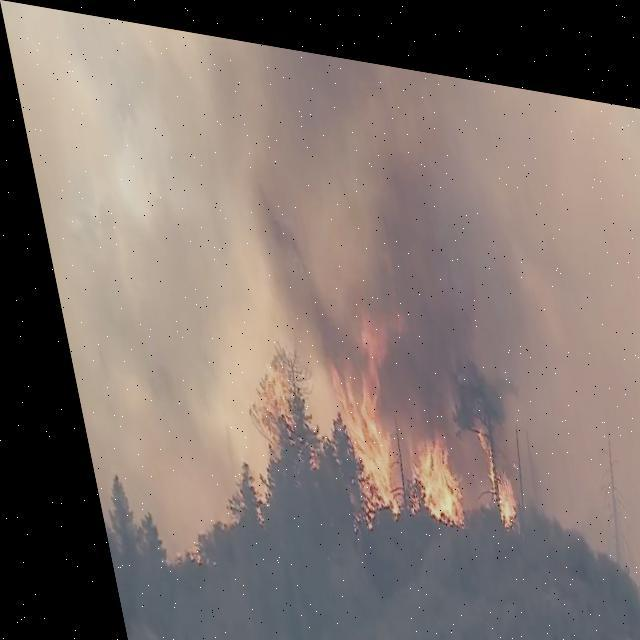Fire: (298, 297, 396, 520), (384, 410, 454, 522), (456, 410, 512, 528)
